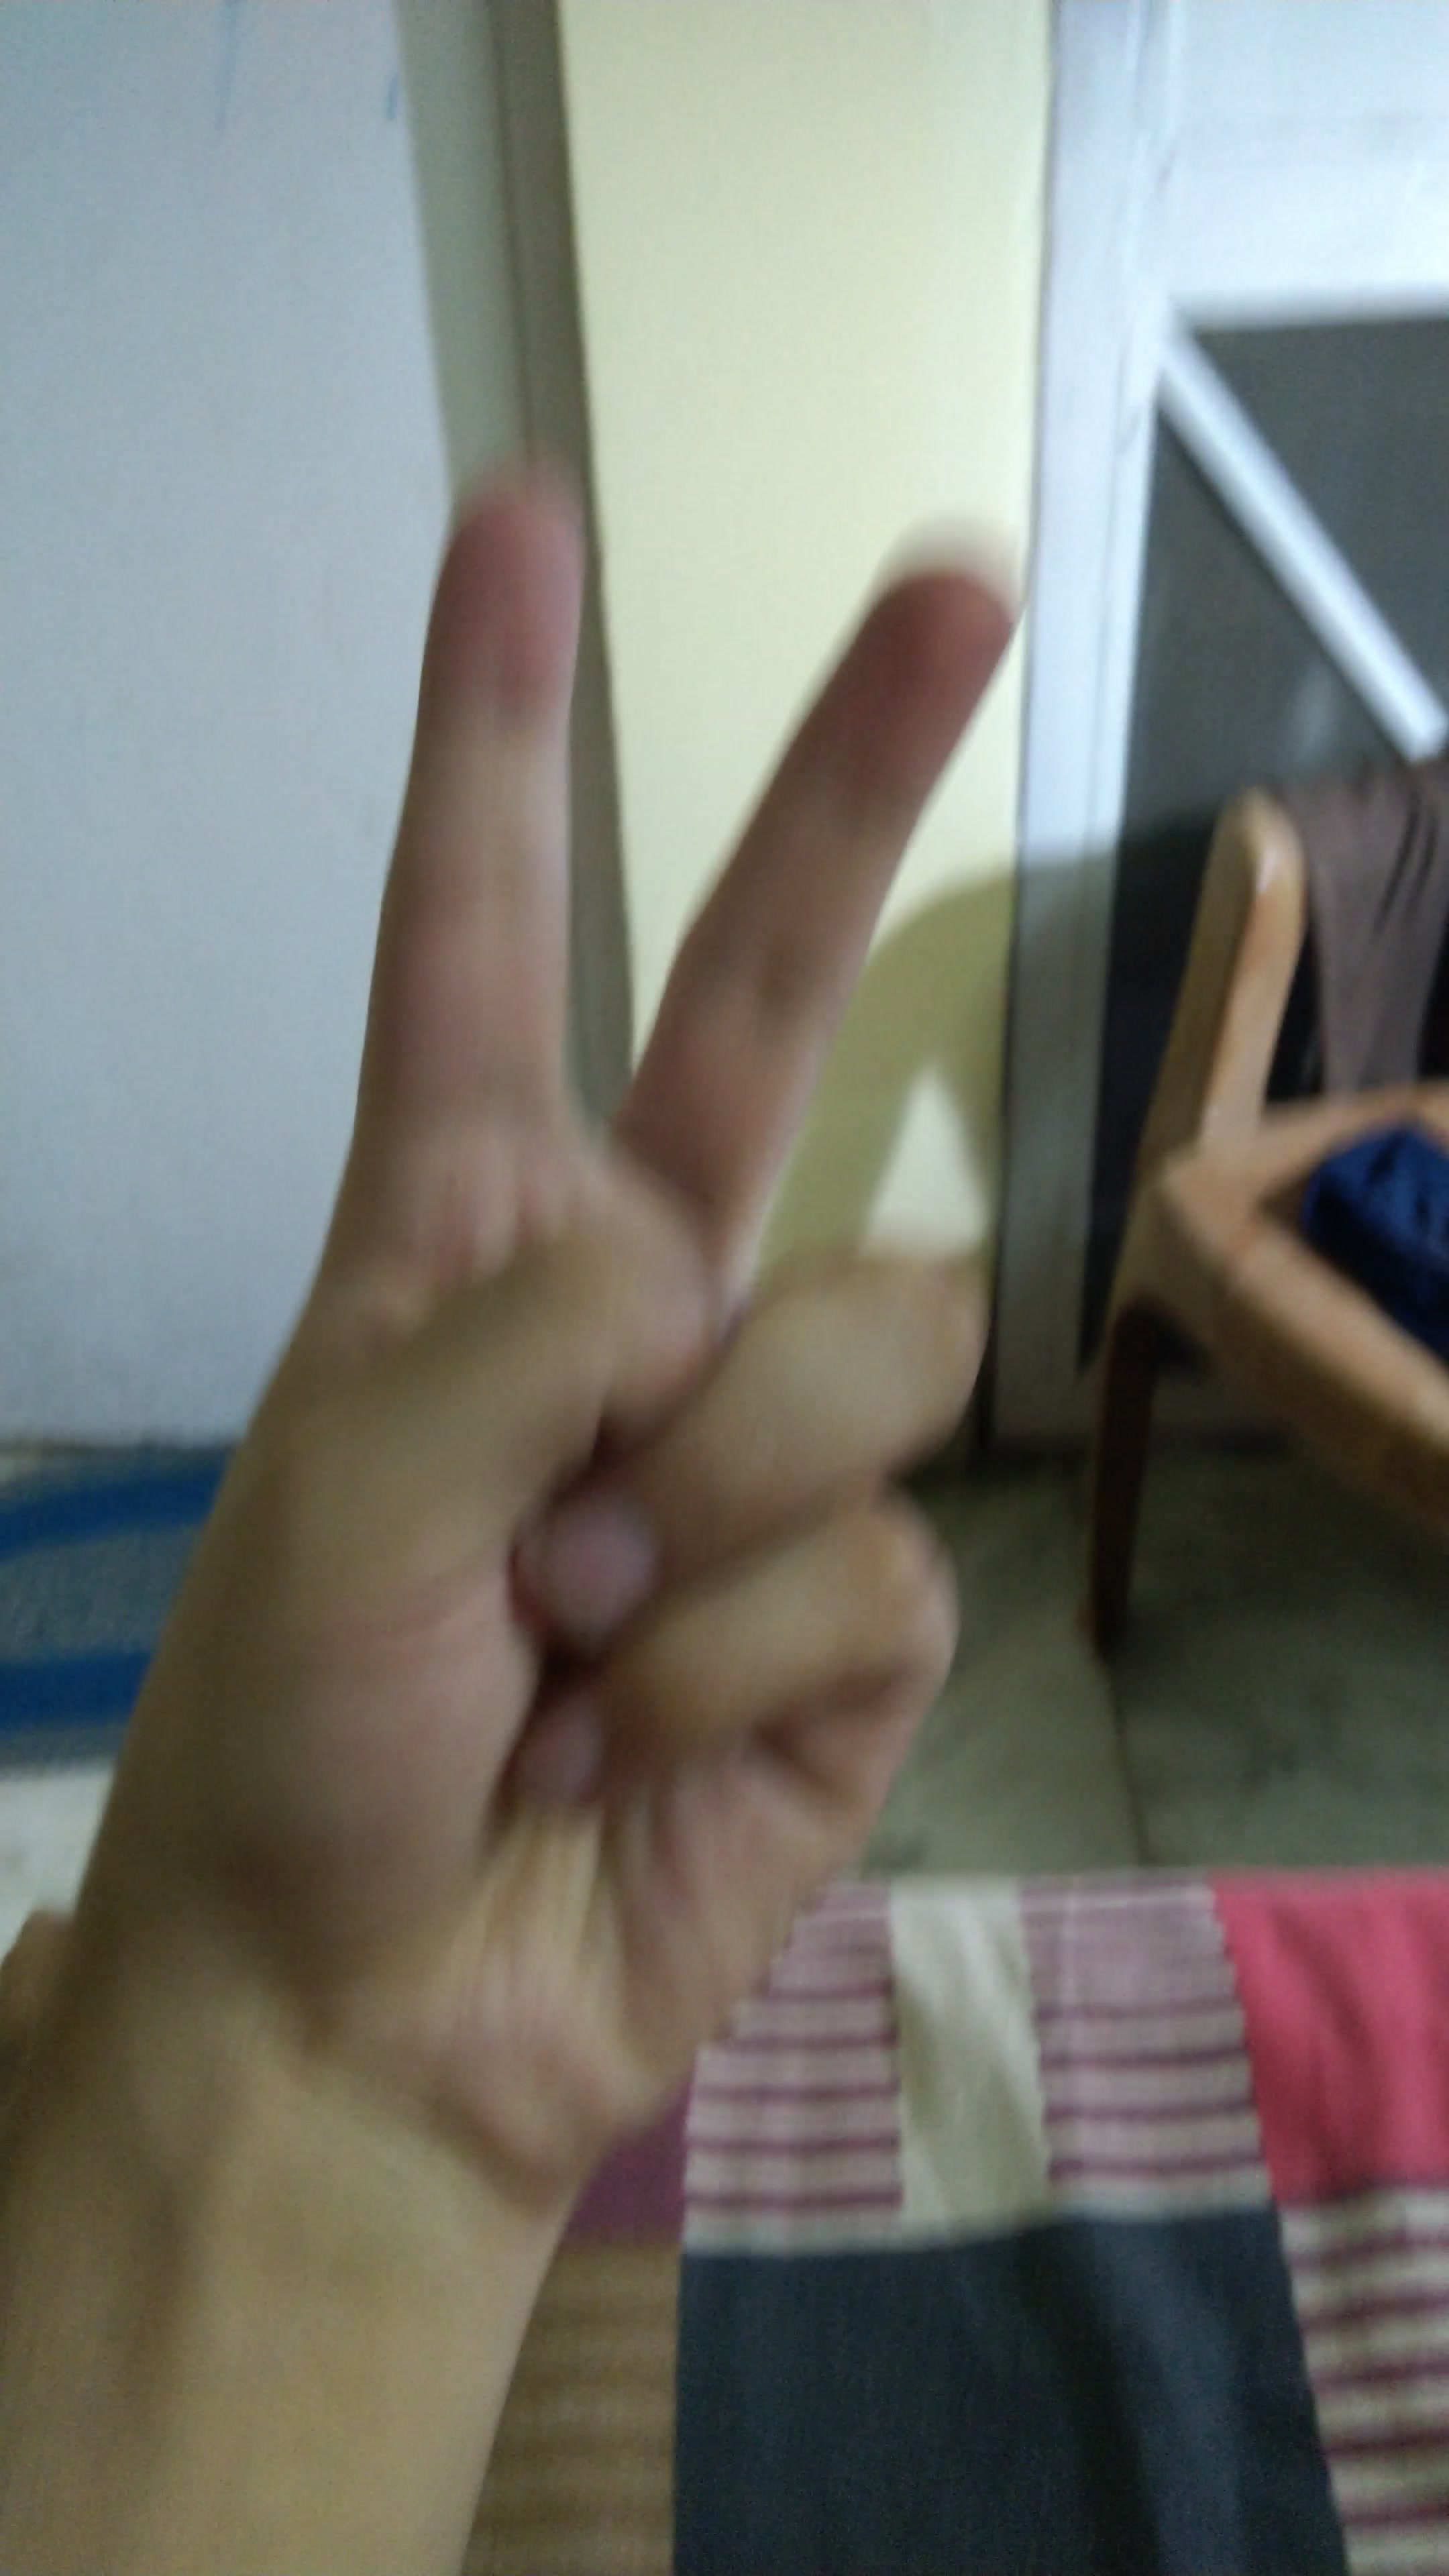hand: (74, 412, 1077, 2263)
